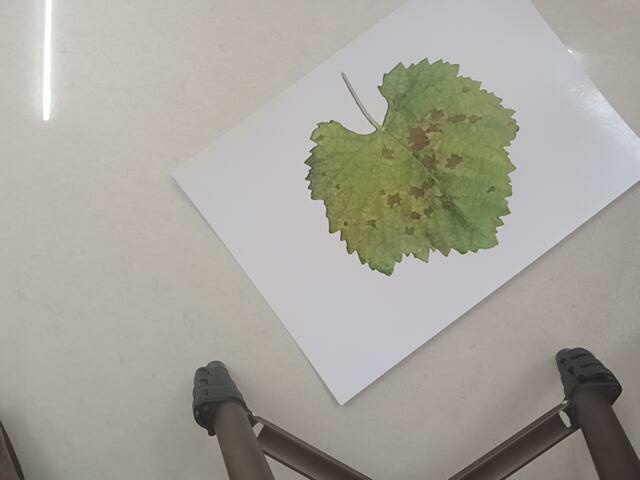Grape_Leaf_Vine_Disease: (292, 61, 541, 271)
